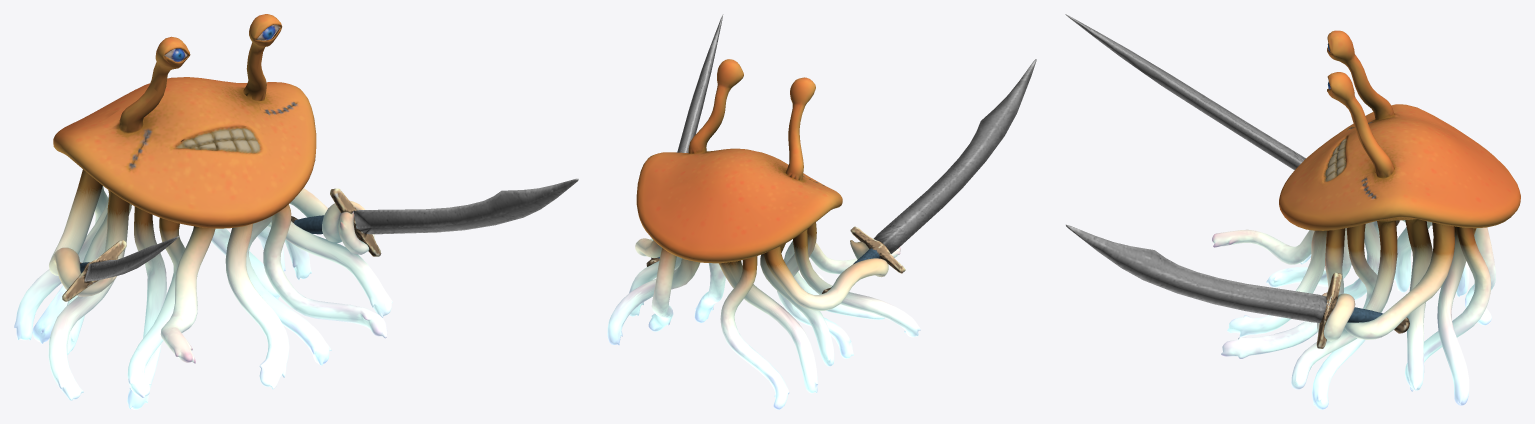
Rendered from MZ4250 - Flumph_battle_2025.glb.
3 renders of one model, left to right at view 1: azimuth 30°, elevation 25°; view 2: azimuth 150°, elevation 25°; view 3: azimuth 270°, elevation 25°, orthographic. The views are drawn at different scales.
Parts seen in each view (by area): view 1: ORGANIC BASE SPHERE.001; view 2: ORGANIC BASE SPHERE.001; view 3: ORGANIC BASE SPHERE.001.
Part boxes in pixels (x1,y1,x2,y2): ORGANIC BASE SPHERE.001: [14, 14, 578, 409]; ORGANIC BASE SPHERE.001: [607, 14, 1036, 409]; ORGANIC BASE SPHERE.001: [1065, 14, 1520, 409].
Bounding box in the file's own units: 74.41 × 61.71 × 80.65.
Materials: 1 (1 with a texture image).
